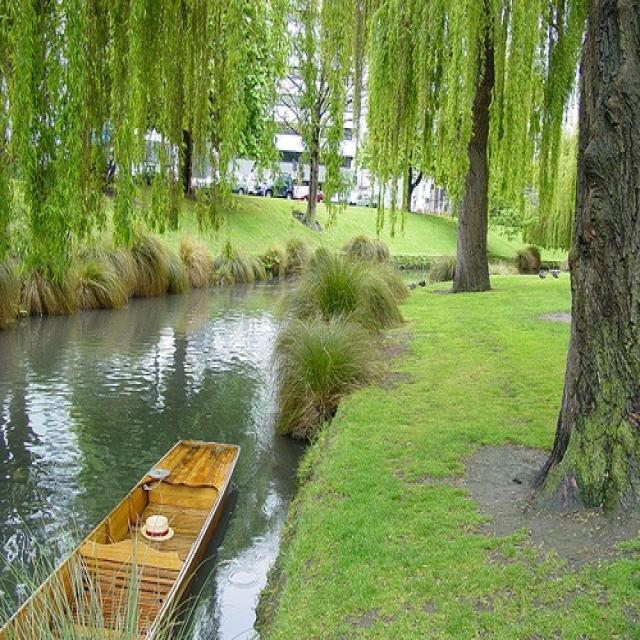car: (250, 171, 289, 196), (289, 182, 323, 202)
truck: (290, 182, 324, 202)
